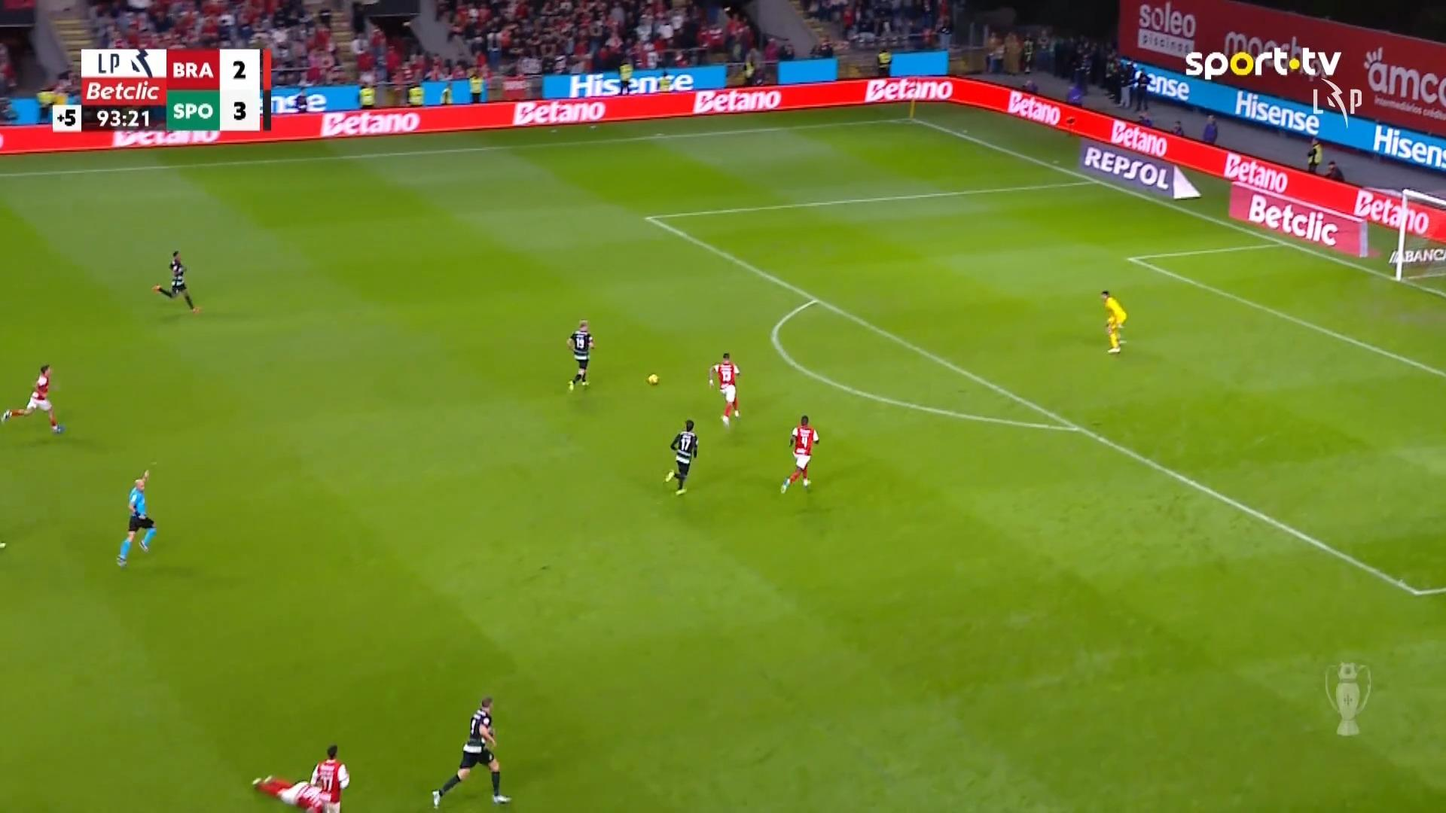ball: (647, 373, 658, 385)
goalkeeper: (1100, 289, 1127, 353)
player: (431, 695, 511, 808), (0, 363, 66, 434), (779, 414, 819, 494), (151, 249, 200, 313), (251, 774, 327, 811), (663, 419, 699, 495), (310, 743, 350, 811), (708, 351, 741, 425), (566, 319, 595, 390)
referee: (115, 469, 157, 567)
